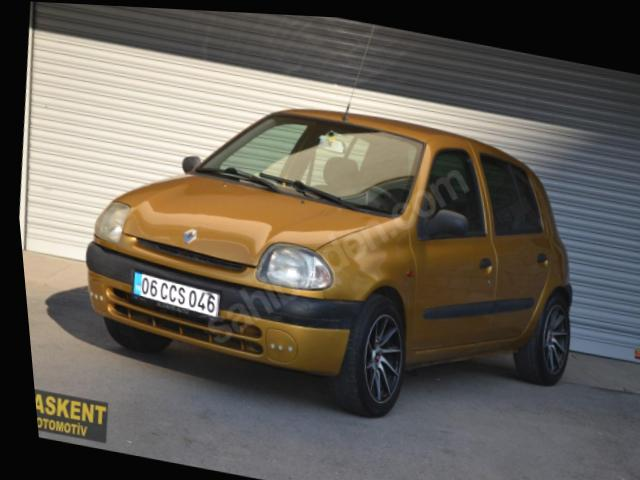plaka: (133, 271, 219, 317)
